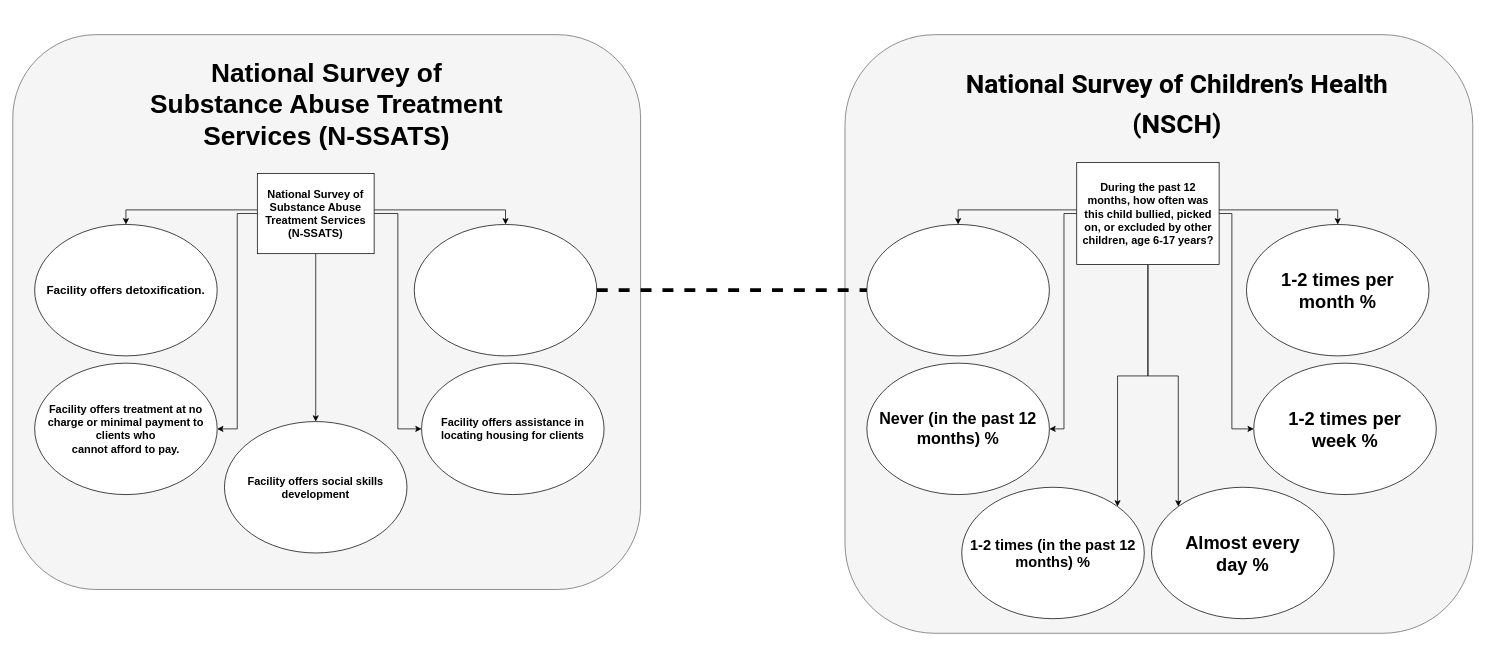
Image size: 1486x646. Some labels were removed from this diagram. The centre of each missing label's shape, as x and y in pixels:
"State" goes at (957,290).
"State postal code" goes at (505,290).
